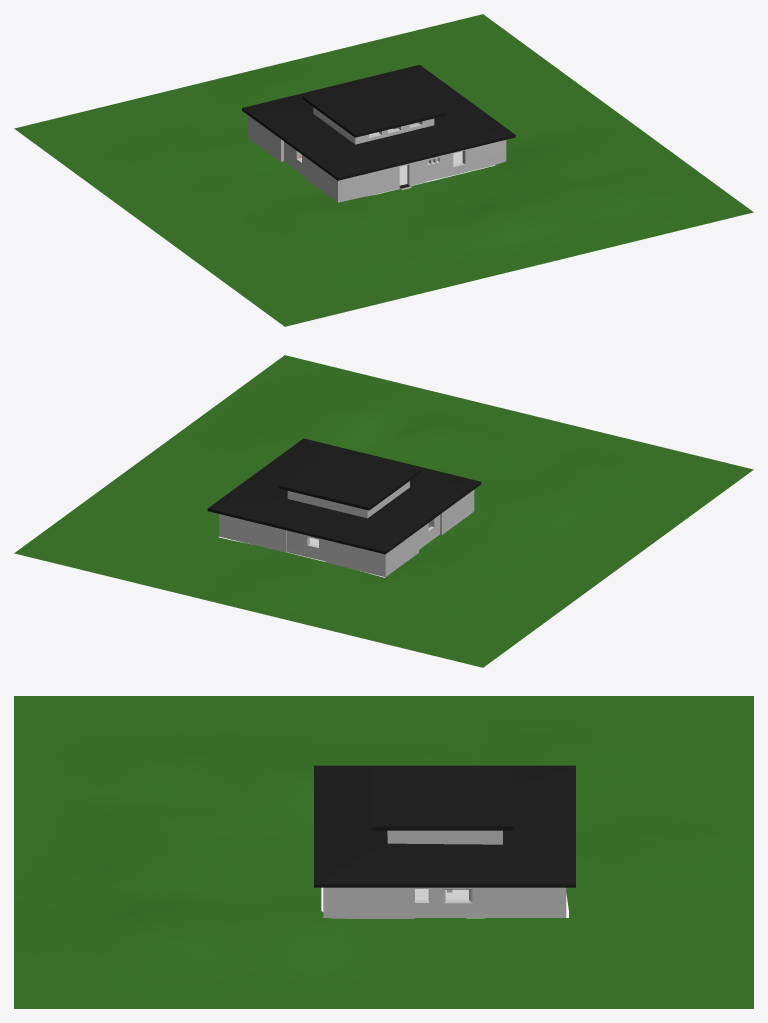
The model's file is HausAmhornBigger.fbx.
The picture shows the model from 3 angles, top to bottom: view 1: azimuth 30°, elevation 25°; view 2: azimuth 150°, elevation 25°; view 3: azimuth 270°, elevation 25°; orthographic projection. The views are drawn at different scales.
Visible parts, largest first — view 1: Grass, roof.001, House; view 2: Grass, roof.001, House; view 3: Grass, roof.001, House.
Boxes of the visible parts, x1,y1,x2,y2 form: Grass: (14,14,753,326); roof.001: (242,64,515,188); House: (247,107,506,202); Grass: (14,355,753,667); roof.001: (207,438,481,554); House: (219,481,474,576); Grass: (14,696,753,1008); roof.001: (314,765,575,887); House: (323,830,566,918).
Size of the model in its own units: 9049 by 871 by 9049.
